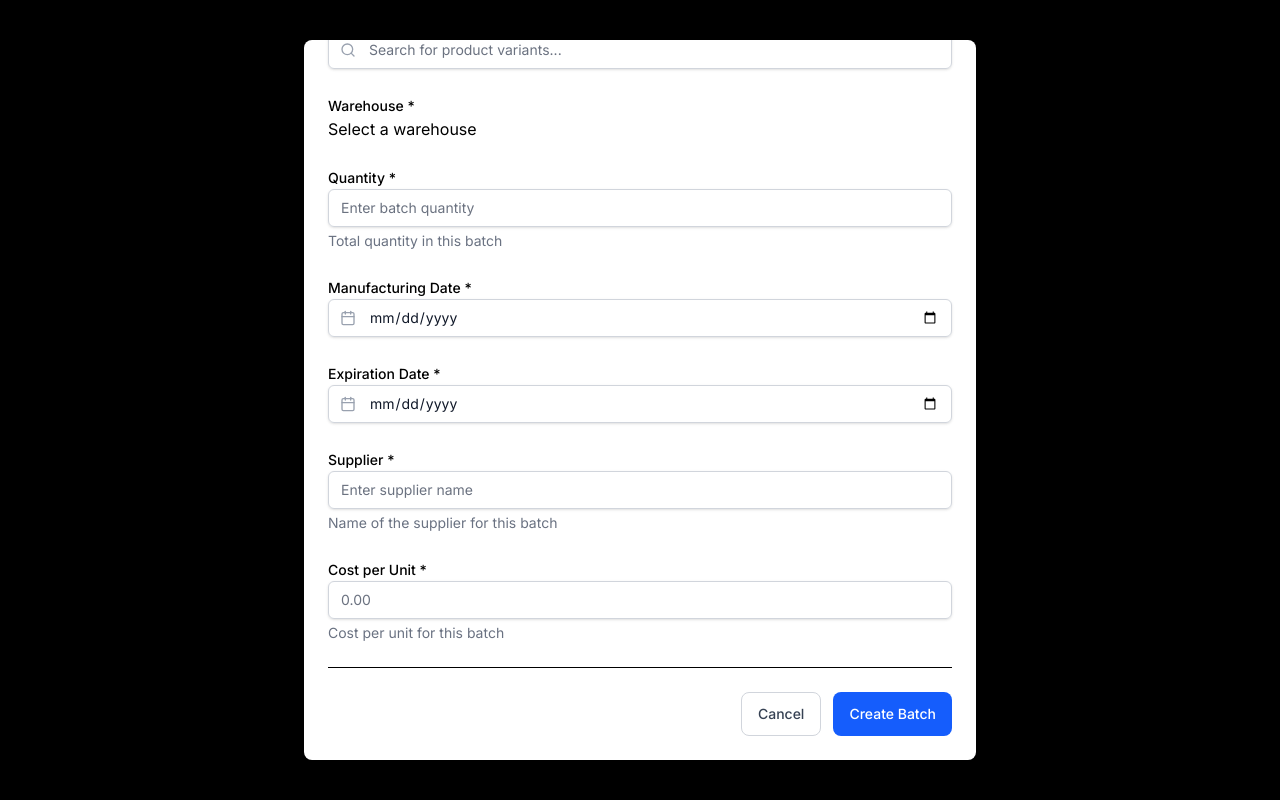
BatchForm › clears field errors when user starts typing
The width and height of the screenshot is (1280, 800).
(page scrolled)
Submit to generate errors
Click the button "Create Batch" at coordinates (893, 714), box top-left (833, 692), bottom-right (952, 736)
(page scrolled)
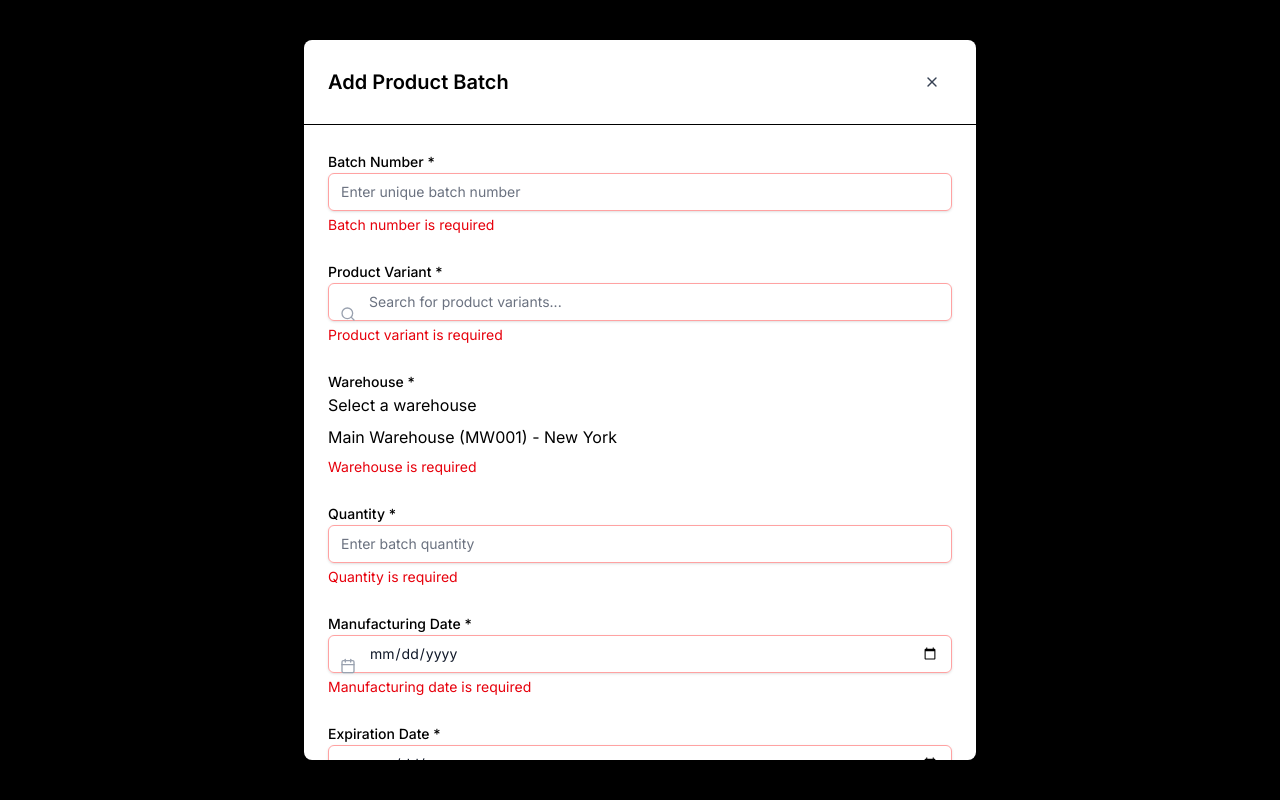
Result: the text "Batch number is required" is shown at top-left (328, 216), bottom-right (494, 233)
Start typing in batch number field
Type "B" into the field labelled "Batch Number *" at coordinates (640, 192), box top-left (328, 173), bottom-right (952, 211)
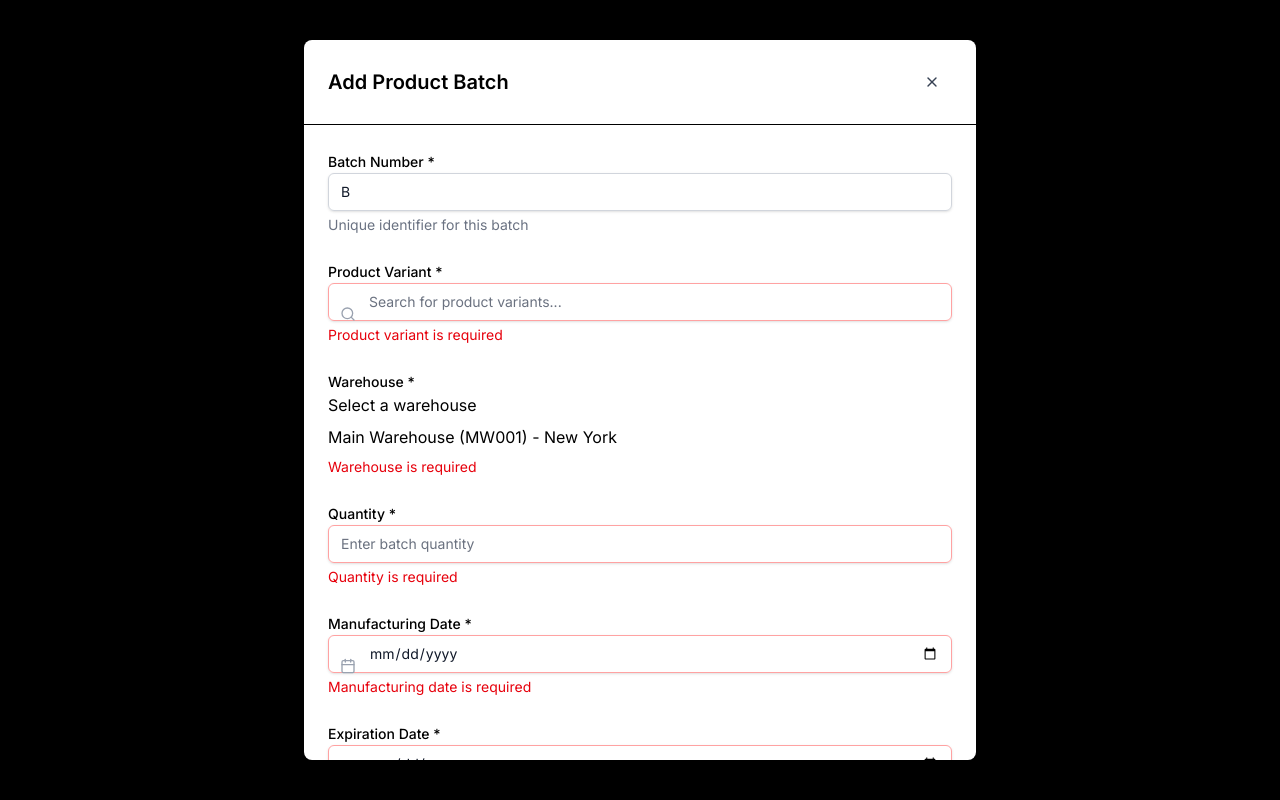
Result: the text "Batch number is required" is gone
